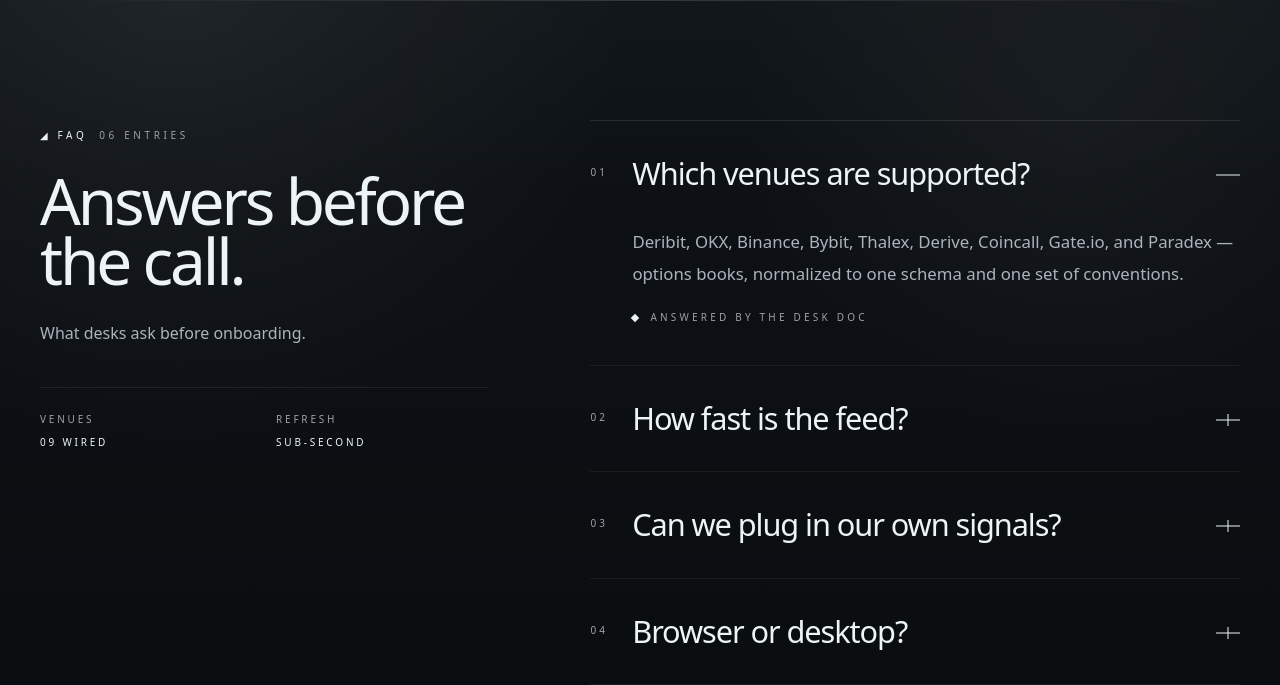
Test: proof sections › opens and closes FAQ items
expect the text "Deribit, OKX, Binance, Bybit, Thalex, Derive" is shown: met, box left=632, top=230, right=1233, bottom=285
What coordinates should you click on to do the following:
click the button "02 How fast is the feed?"
I would click on:
 (770, 418)
Its box is left=590, top=366, right=1240, bottom=471.
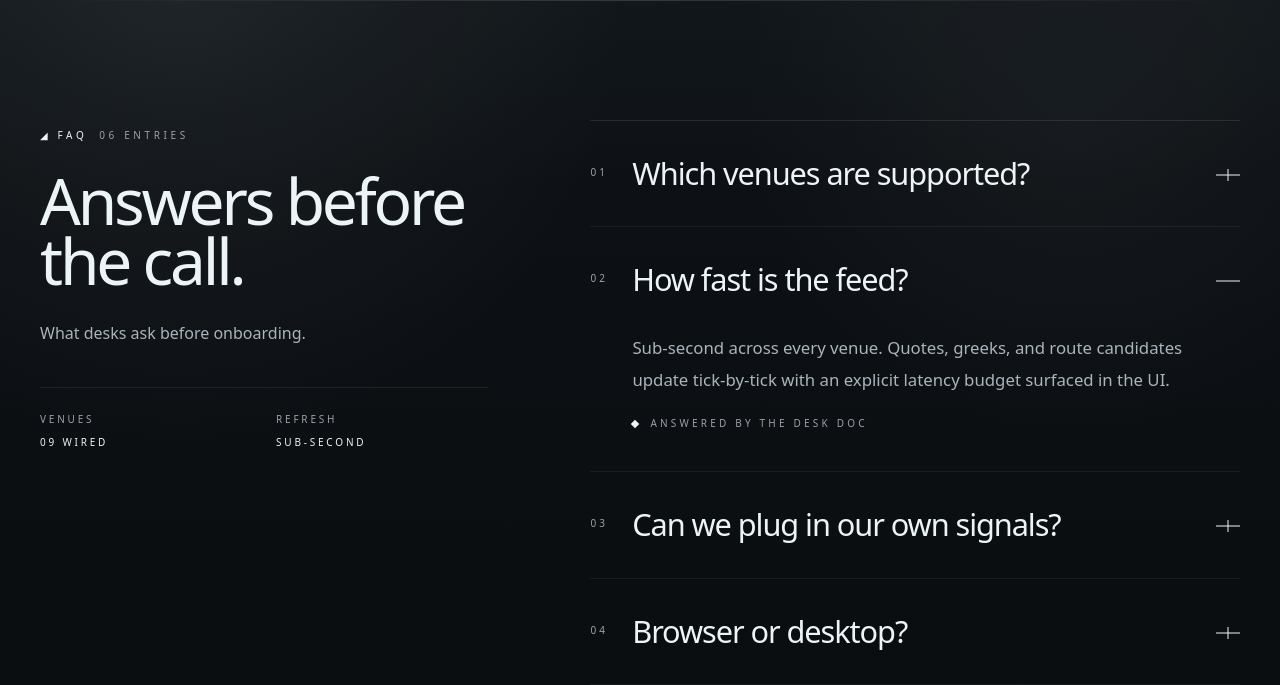
expect the text "Sub-second across every venue" is shown: met, box left=632, top=336, right=1182, bottom=391
